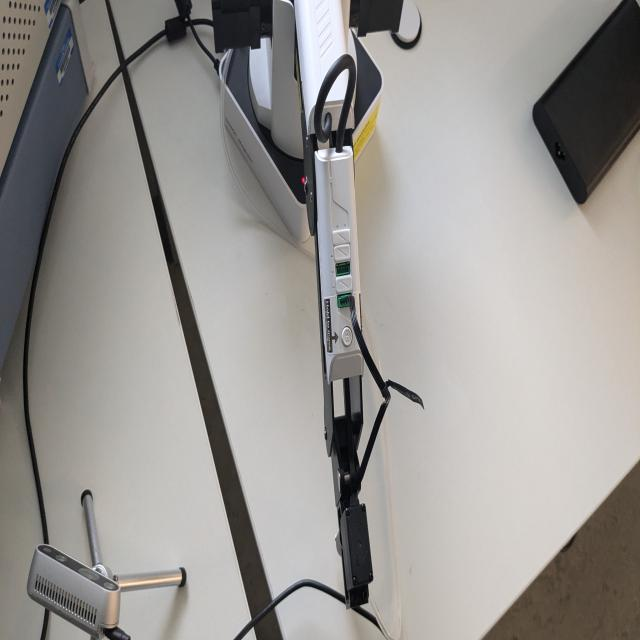Robot-end-effector-HF8z: (336, 494, 376, 611)
